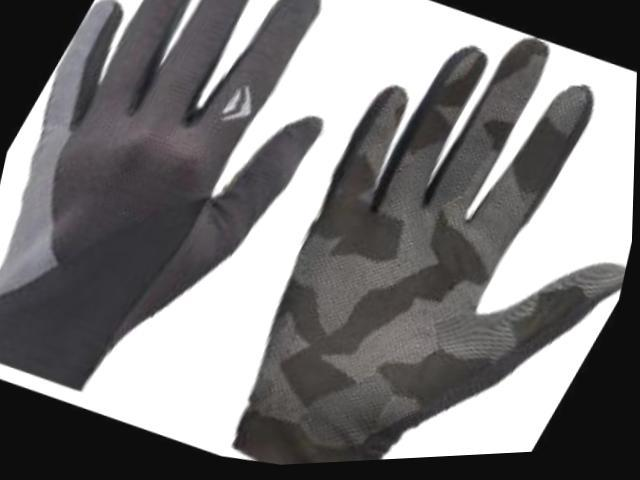Hand-in-Glove: (154, 0, 640, 473), (0, 0, 407, 469)
